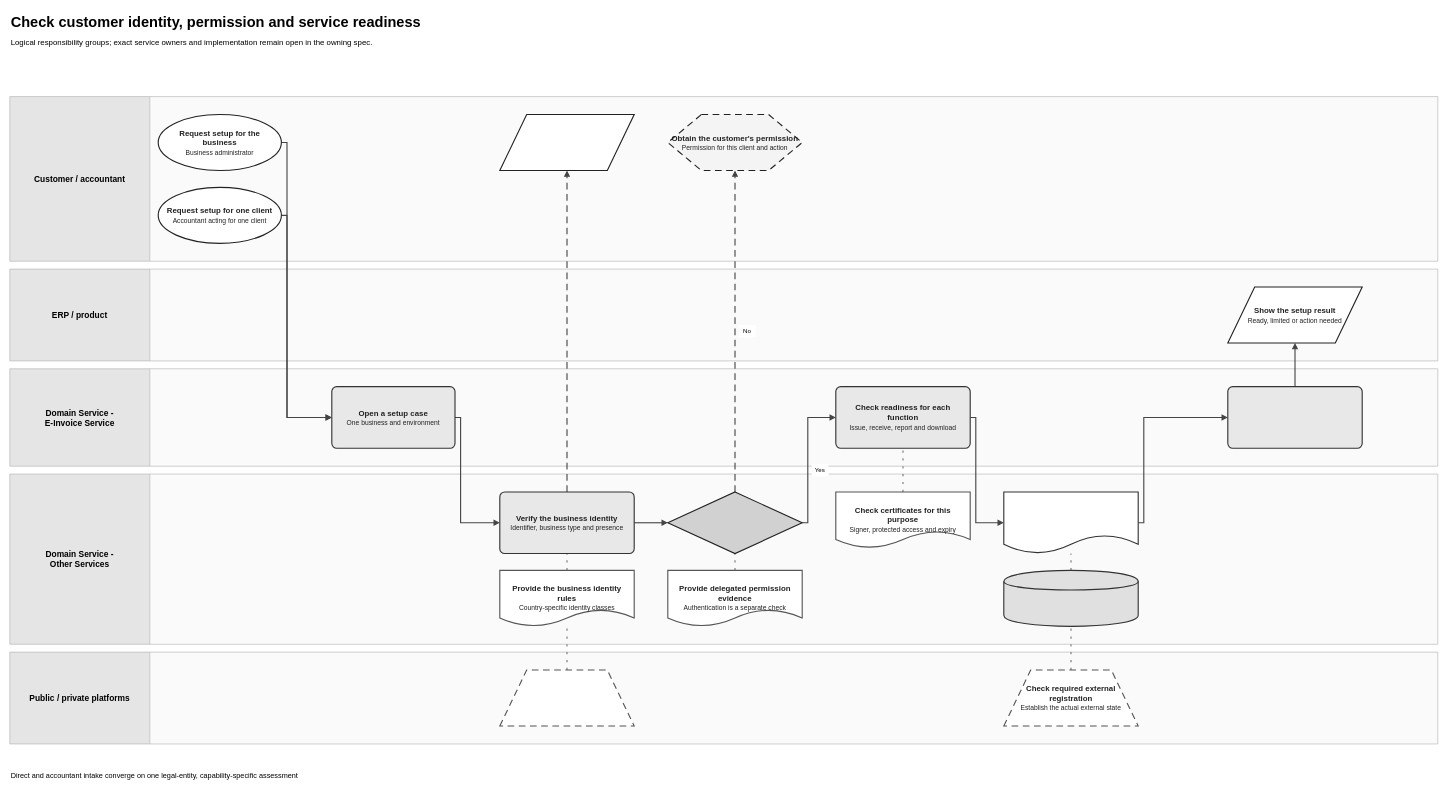
The diagram is 1448 pixels wide and 810 high, and some of its shapes have lost their labels. Here are the shapes that lost their labels. From the top down, the centre of each, then its label:
the point at 566,142: Correct the business identity Provide a new evidence revision
the point at 1294,417: Activate the approved route Direction, environment and effective time
the point at 734,522: Is the actor allowed to act? Client, function and permitted period
the point at 1070,522: Configure the invoice route Connection, credentials and trust
the point at 1070,598: Check the saved route status Configured does not mean active
the point at 566,697: Check official business identity Only where access is approved
